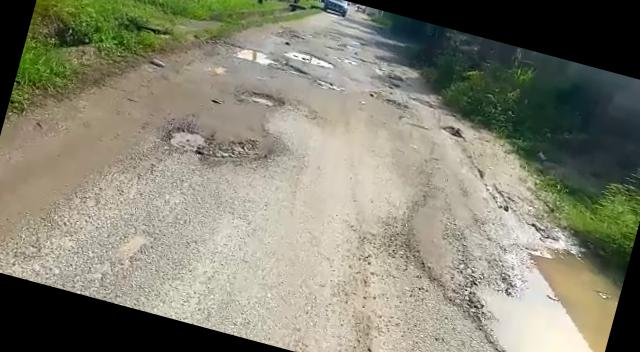pothole: (445, 227, 626, 352), (162, 122, 257, 169), (224, 42, 281, 70), (282, 46, 336, 70), (240, 86, 286, 111)
